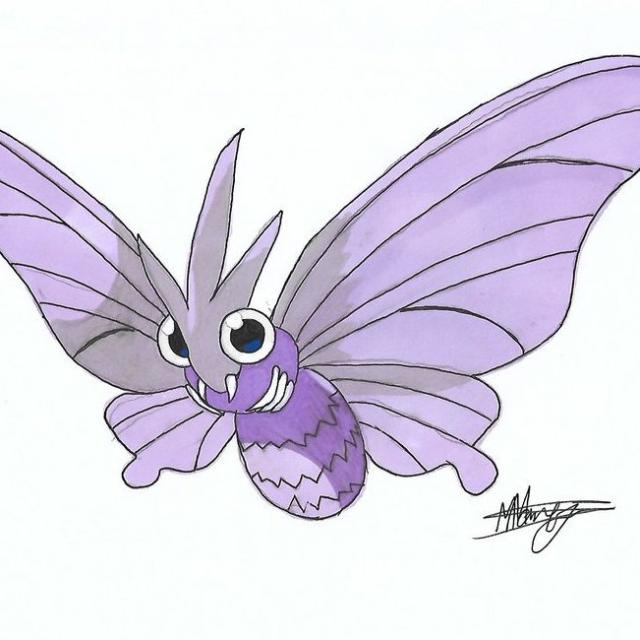Venomoth: (79, 136, 513, 514)
